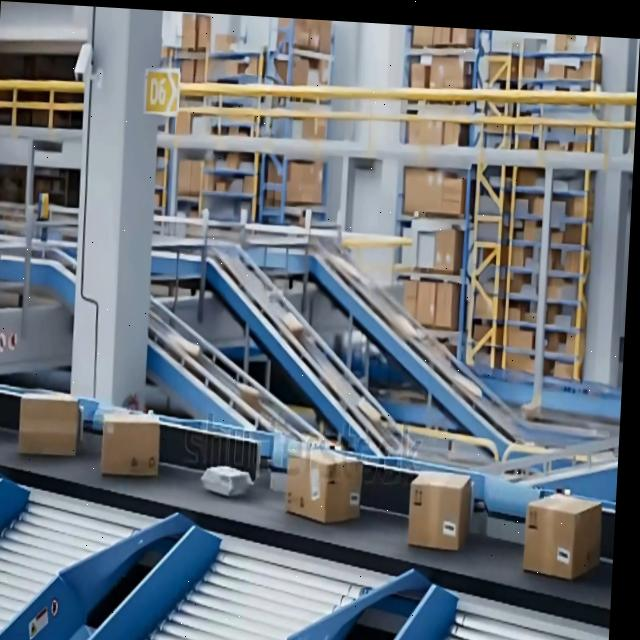product 1: (283, 441, 363, 525), (405, 467, 467, 550), (98, 408, 161, 477)
product 2: (199, 463, 255, 500)
